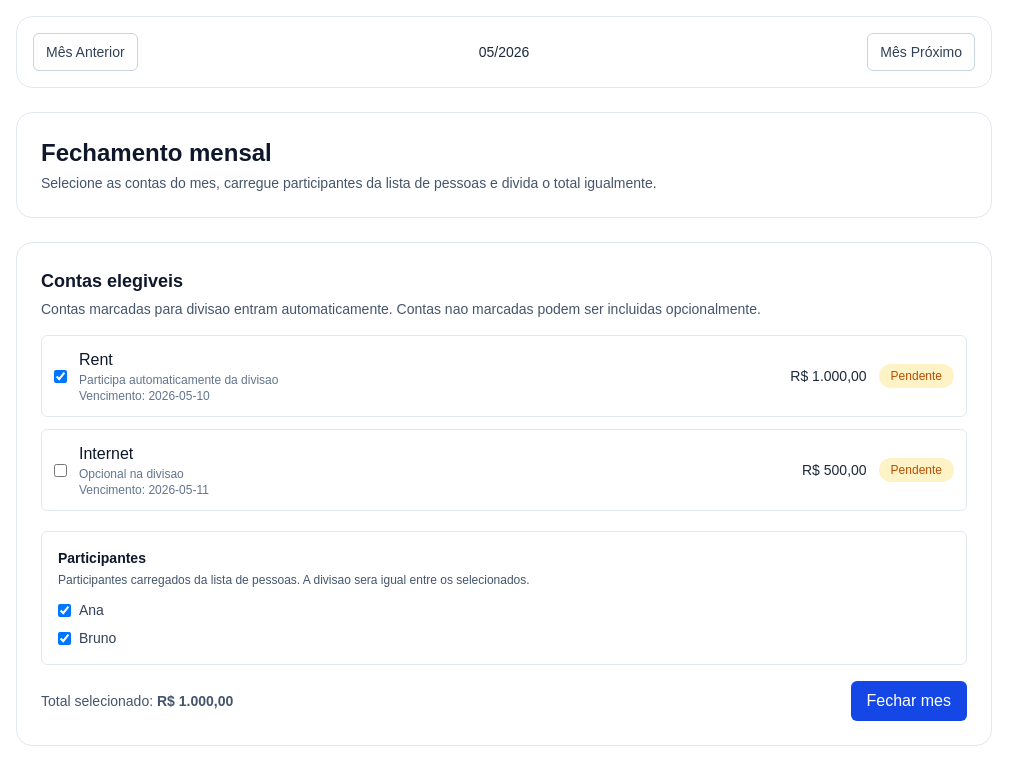
Test case: MonthlyClosingView › filters month accounts
This screenshot has width=1009, height=770.
Step 1. Click the button "Mês Próximo" → (921, 52), box [867, 33, 975, 71]
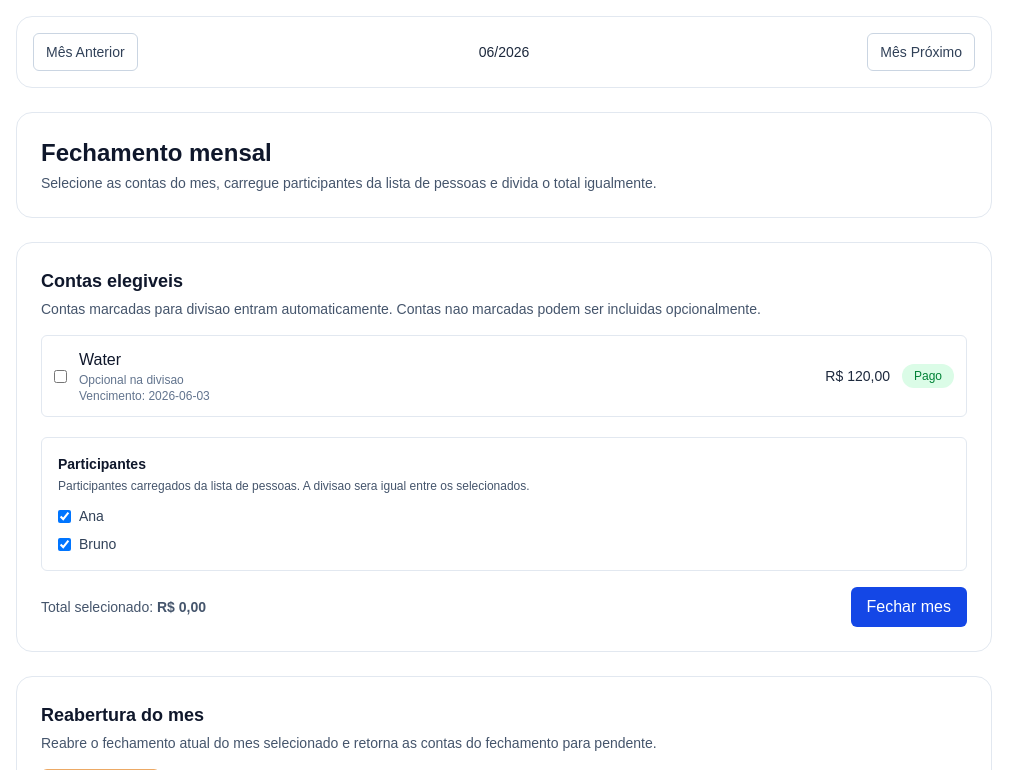
Now the text "Water" is shown, box [79, 351, 121, 368]
Now the text "Pago" is shown, box [902, 364, 954, 388]
